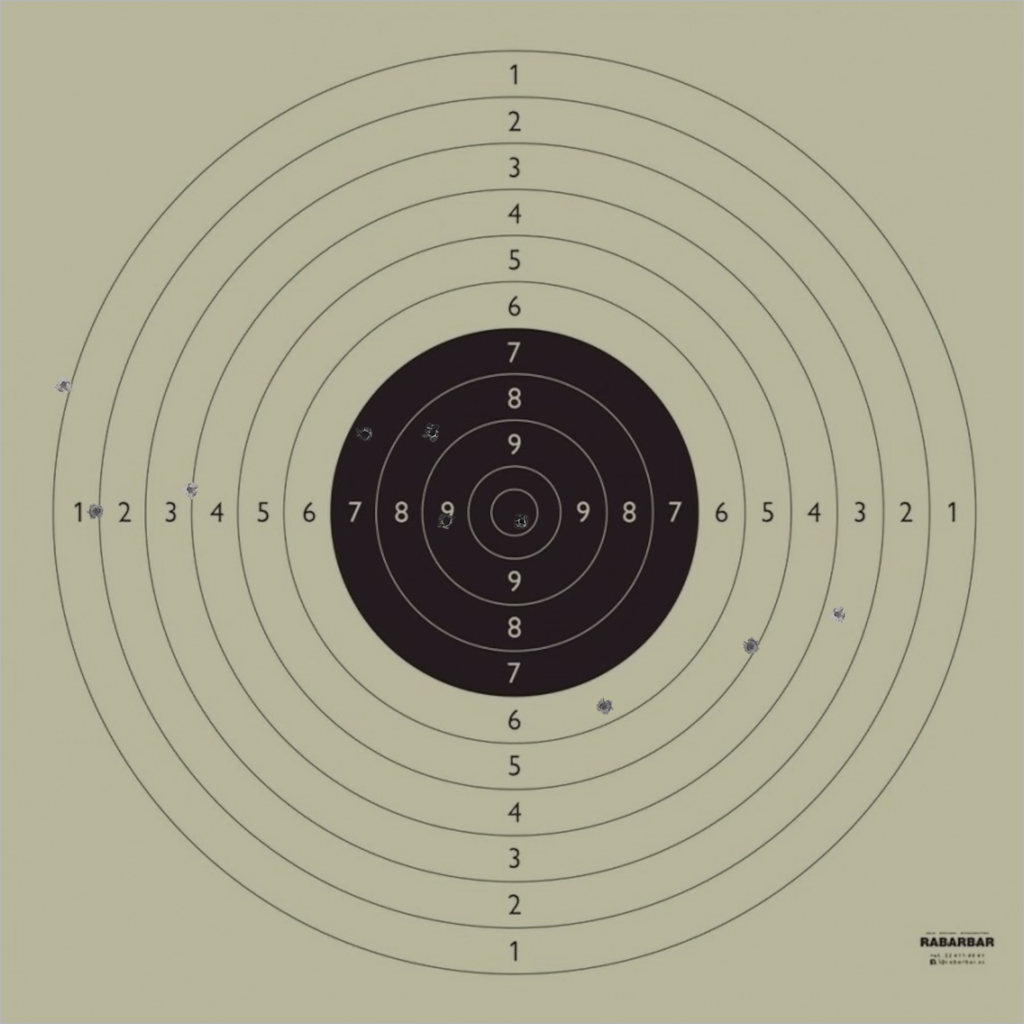0 punktow: (870, 0, 889, 12)
1 punkt: (54, 376, 73, 394)
10 punktow: (513, 513, 531, 531)
2 punkty: (87, 502, 105, 521)
3 punkty: (829, 605, 847, 623)
4 punkty: (181, 481, 200, 499)
5 punktow: (741, 637, 760, 656)
6 punktow: (595, 697, 613, 716)
7 punktow: (356, 425, 374, 443)
8 punktow: (423, 423, 442, 441)
9 punktow: (437, 512, 456, 531)
